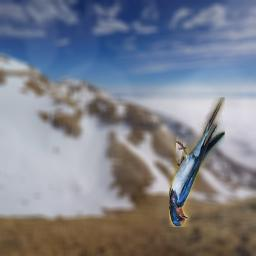Swallow: (169, 97, 225, 227)
